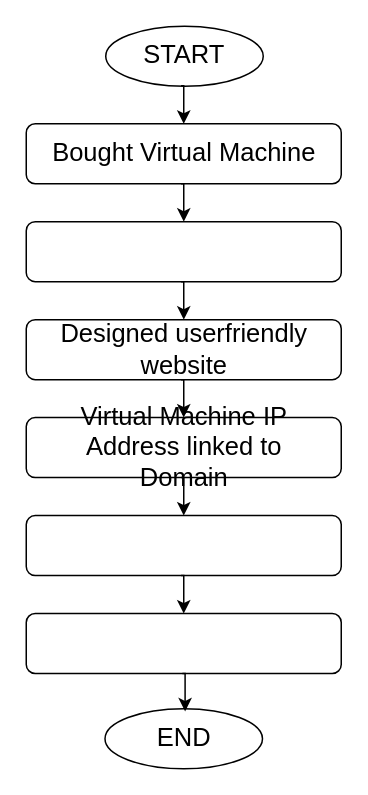
The diagram is 368 pixels wide and 795 high, and some of its shapes have lost their labels. Each missing label, with the centre of its shape:
Developed the App: the point at 183,643
Generate SSL Certificate: the point at 183,545
Install WordPress on Virtual Machine: the point at 183,251
